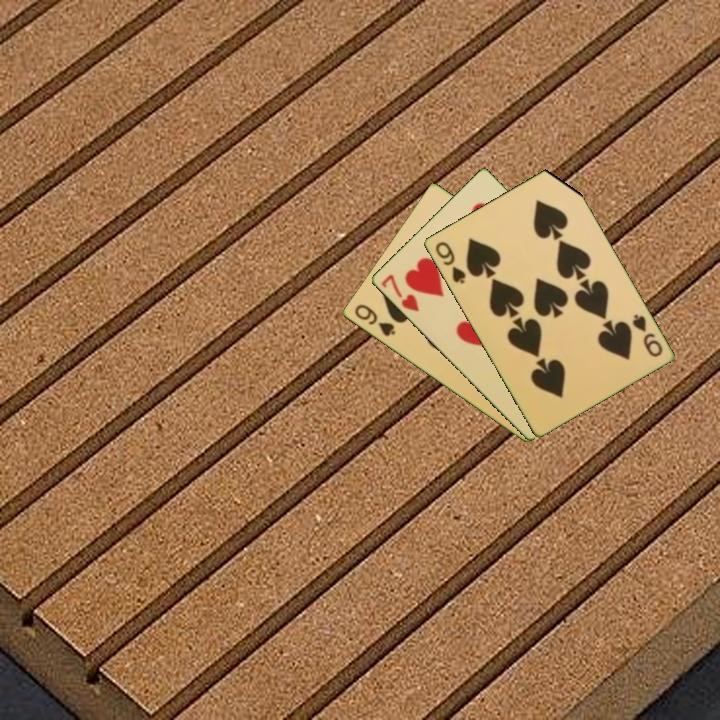7h: (377, 271, 422, 315)
9s: (431, 238, 469, 287), (628, 310, 665, 360), (350, 301, 398, 339)
